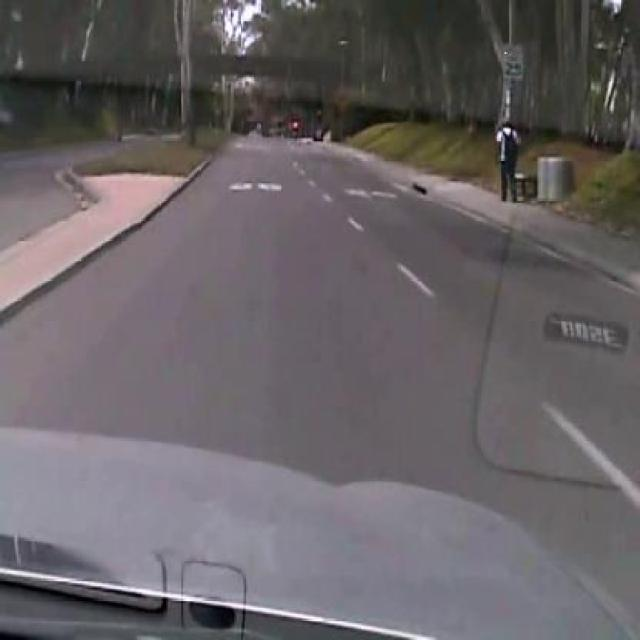speedLimit25: (502, 42, 522, 82)
